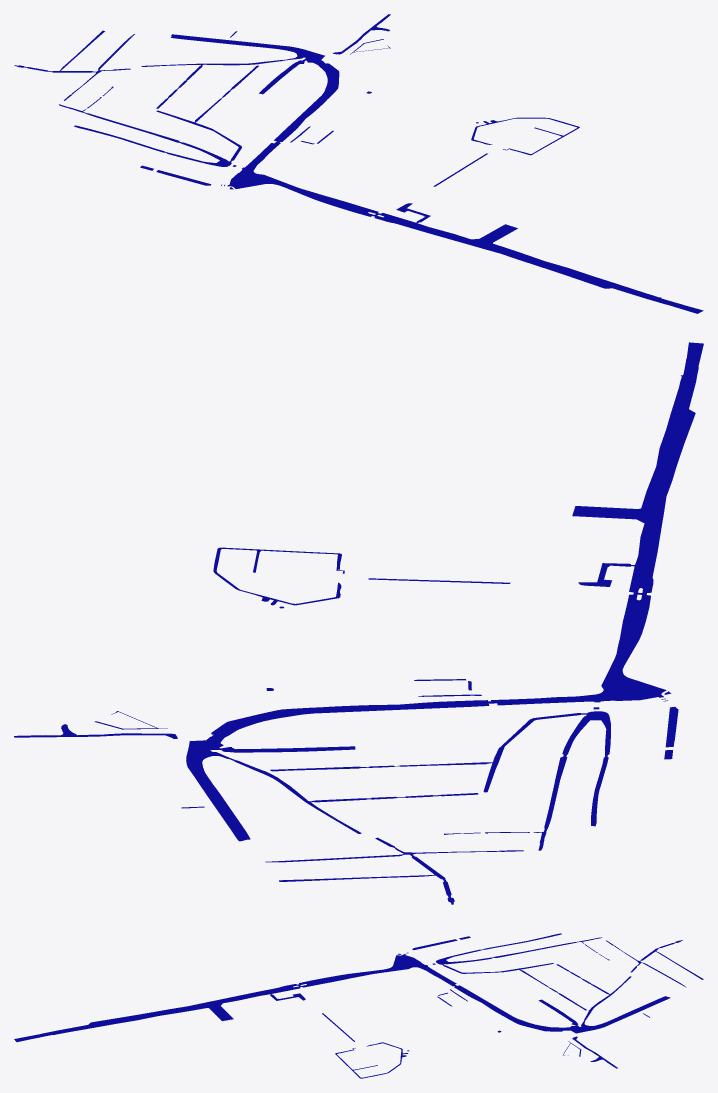
The model's file is Water.fbx.
3 renders of one model, top to bottom at view 1: azimuth 30°, elevation 25°; view 2: azimuth 150°, elevation 25°; view 3: azimuth 270°, elevation 25°, orthographic. The views are drawn at different scales.
Visible parts, largest first — view 1: map2:Water13, map2:Water1, map2:Water7, map2:Water8, map2:Water3, map2:Water25; view 2: map2:Water13, map2:Water1, map2:Water7, map2:Water8, map2:Water3, map2:Water25, map2:Water2; view 3: map2:Water13, map2:Water1, map2:Water7, map2:Water8, map2:Water25, map2:Water3, map2:Water2.
Boxes of the visible parts, box(x1,y1,x2,y2) form: map2:Water13: box(374, 203, 703, 313); map2:Water1: box(242, 142, 378, 216); map2:Water7: box(171, 34, 324, 64); map2:Water8: box(300, 63, 339, 117); map2:Water3: box(227, 169, 278, 188); map2:Water25: box(82, 112, 231, 166); map2:Water13: box(572, 342, 703, 592); map2:Water1: box(491, 594, 650, 705); map2:Water7: box(186, 736, 250, 841); map2:Water8: box(211, 704, 393, 737); map2:Water3: box(596, 673, 666, 701); map2:Water25: box(543, 711, 610, 832); map2:Water2: box(213, 547, 341, 605); map2:Water13: box(14, 984, 305, 1041); map2:Water1: box(299, 965, 456, 987); map2:Water7: box(565, 996, 670, 1033); map2:Water8: box(484, 1002, 562, 1031); map2:Water25: box(436, 941, 580, 964); map2:Water3: box(390, 954, 424, 970); map2:Water2: box(335, 1042, 408, 1078).
Size of the model in its own units: 1265 by 0 by 2538.
